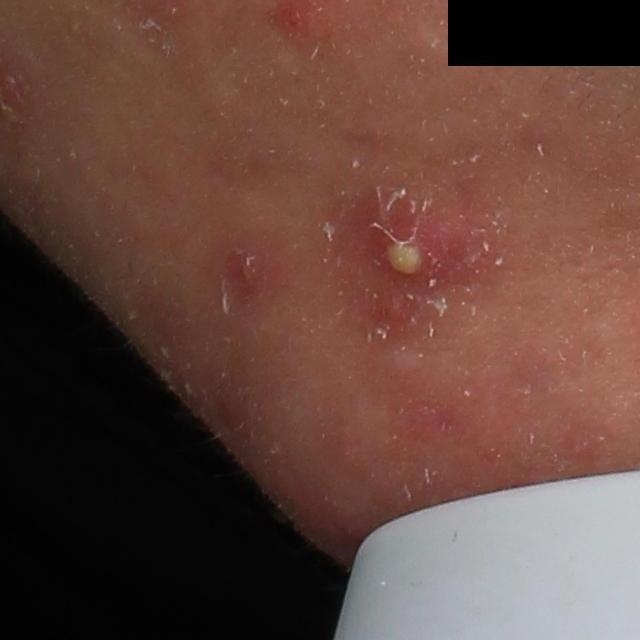papule: (228, 238, 275, 290)
pustule: (360, 198, 467, 295)
